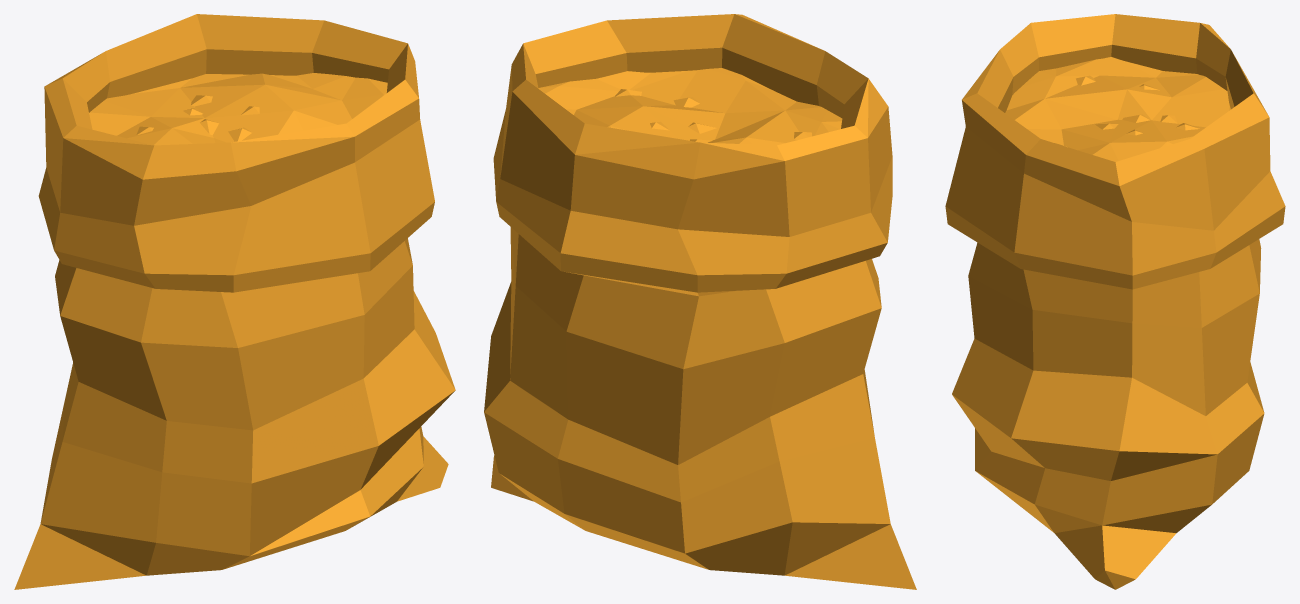
File: SM_Bag_Standing_Open_Sunflower_Farm.fbx
The picture shows the model from 3 angles, left to right: view 1: azimuth 30°, elevation 25°; view 2: azimuth 150°, elevation 25°; view 3: azimuth 270°, elevation 25°; orthographic projection. The views are drawn at different scales.
Parts seen in each view (by area): view 1: bag-standing-open-sunflower-farm; view 2: bag-standing-open-sunflower-farm; view 3: bag-standing-open-sunflower-farm.
Part boxes in pixels (<box>): bag-standing-open-sunflower-farm: <box>14,14,455,589</box>; bag-standing-open-sunflower-farm: <box>484,14,916,589</box>; bag-standing-open-sunflower-farm: <box>945,14,1285,589</box>.
Size of the model in its own units: 0.6185 by 0.632 by 0.46.
